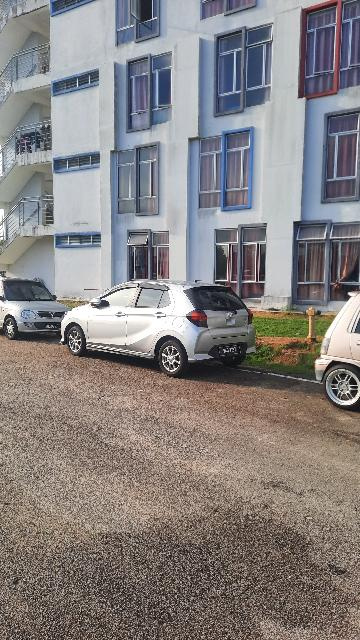License_Plate: (217, 341, 245, 357), (36, 321, 67, 333)
car: (62, 280, 261, 378), (1, 271, 69, 344)
